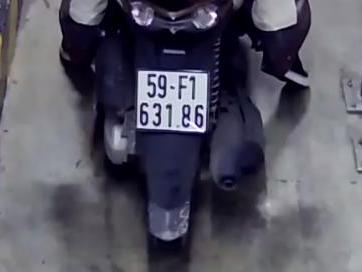num_plate: (137, 68, 211, 134)
